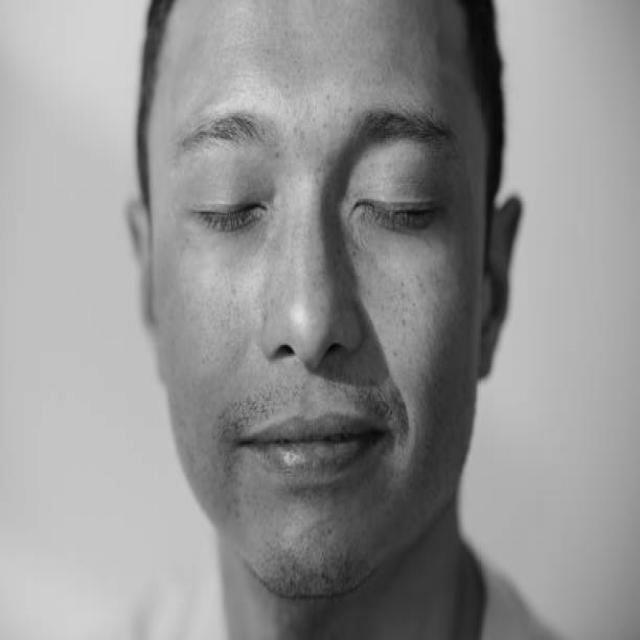real: (123, 0, 524, 603), (158, 96, 466, 251)
